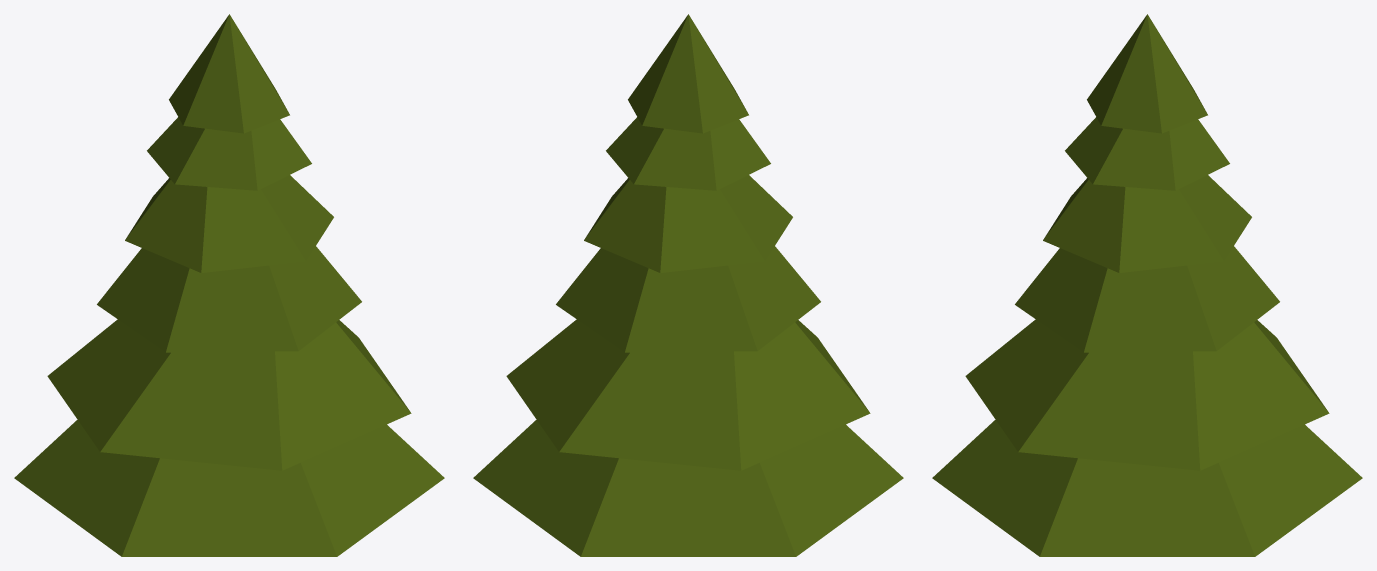
Rendered from tree.glb.
3 views of the same model, side by side, from view 1: azimuth 30°, elevation 25°; view 2: azimuth 150°, elevation 25°; view 3: azimuth 270°, elevation 25° (orthographic).
Parts seen in each view (by area): view 1: Cylinder; view 2: Cylinder; view 3: Cylinder.
Boxes of the visible parts, x1=… form: Cylinder: x1=14, y1=14, x2=444, y2=556; Cylinder: x1=473, y1=14, x2=903, y2=556; Cylinder: x1=932, y1=14, x2=1362, y2=556.
Size of the model in its own units: 2.35 by 3.65 by 2.71.
